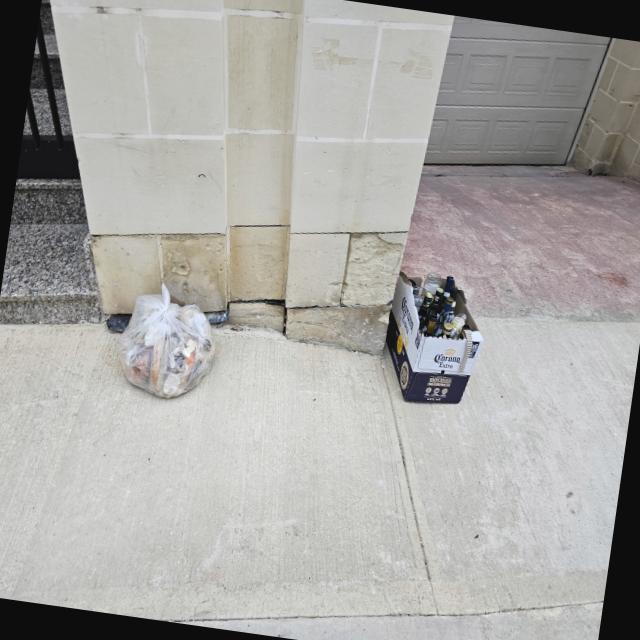other_waste: (371, 262, 498, 416)
white_bag: (108, 271, 228, 409)
